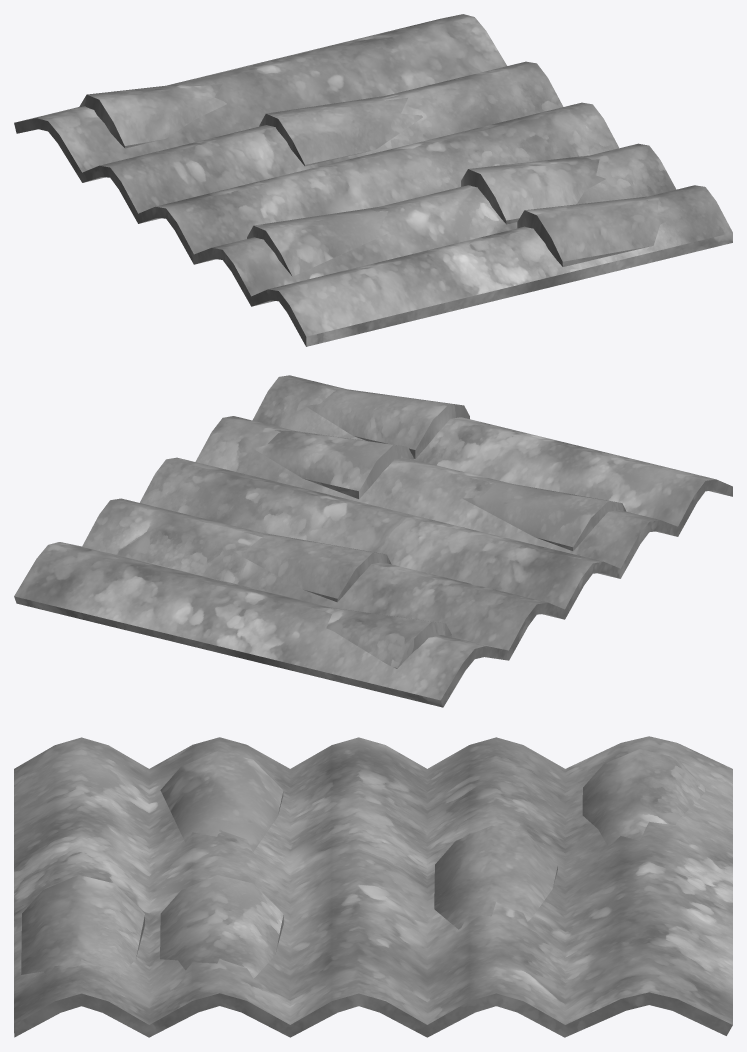
Rendered from SM_Rooftiles_01j.fbx.
3 renders of one model, top to bottom at view 1: azimuth 30°, elevation 25°; view 2: azimuth 150°, elevation 25°; view 3: azimuth 270°, elevation 25°, orthographic. The views are drawn at different scales.
Visible parts, largest first — view 1: SM_Rooftiles_01j_LOD0; view 2: SM_Rooftiles_01j_LOD0; view 3: SM_Rooftiles_01j_LOD0.
Part boxes in pixels (bbox=[...]): SM_Rooftiles_01j_LOD0: bbox=[14, 14, 732, 346]; SM_Rooftiles_01j_LOD0: bbox=[14, 375, 732, 707]; SM_Rooftiles_01j_LOD0: bbox=[14, 736, 732, 1037].
Size of the model in its own units: 130 by 154 by 14.44.
